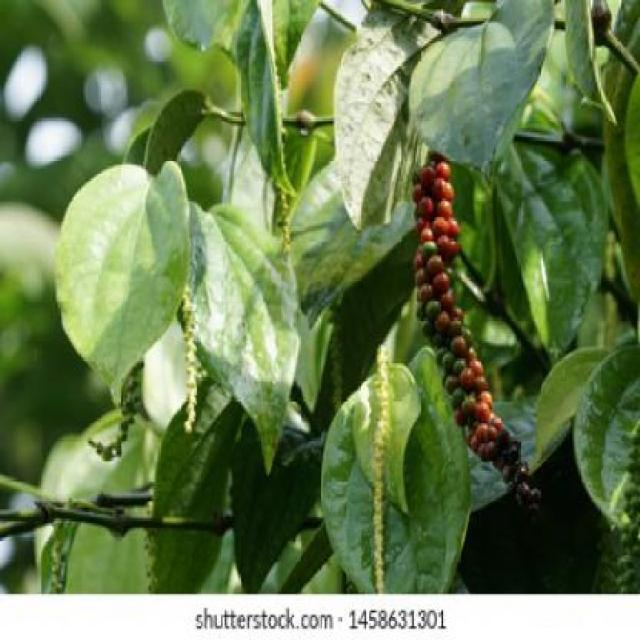RIPE: (411, 160, 505, 457)
UNRIPE: (86, 371, 143, 457), (371, 343, 388, 585), (616, 423, 639, 589), (180, 286, 195, 425), (277, 183, 289, 269)
